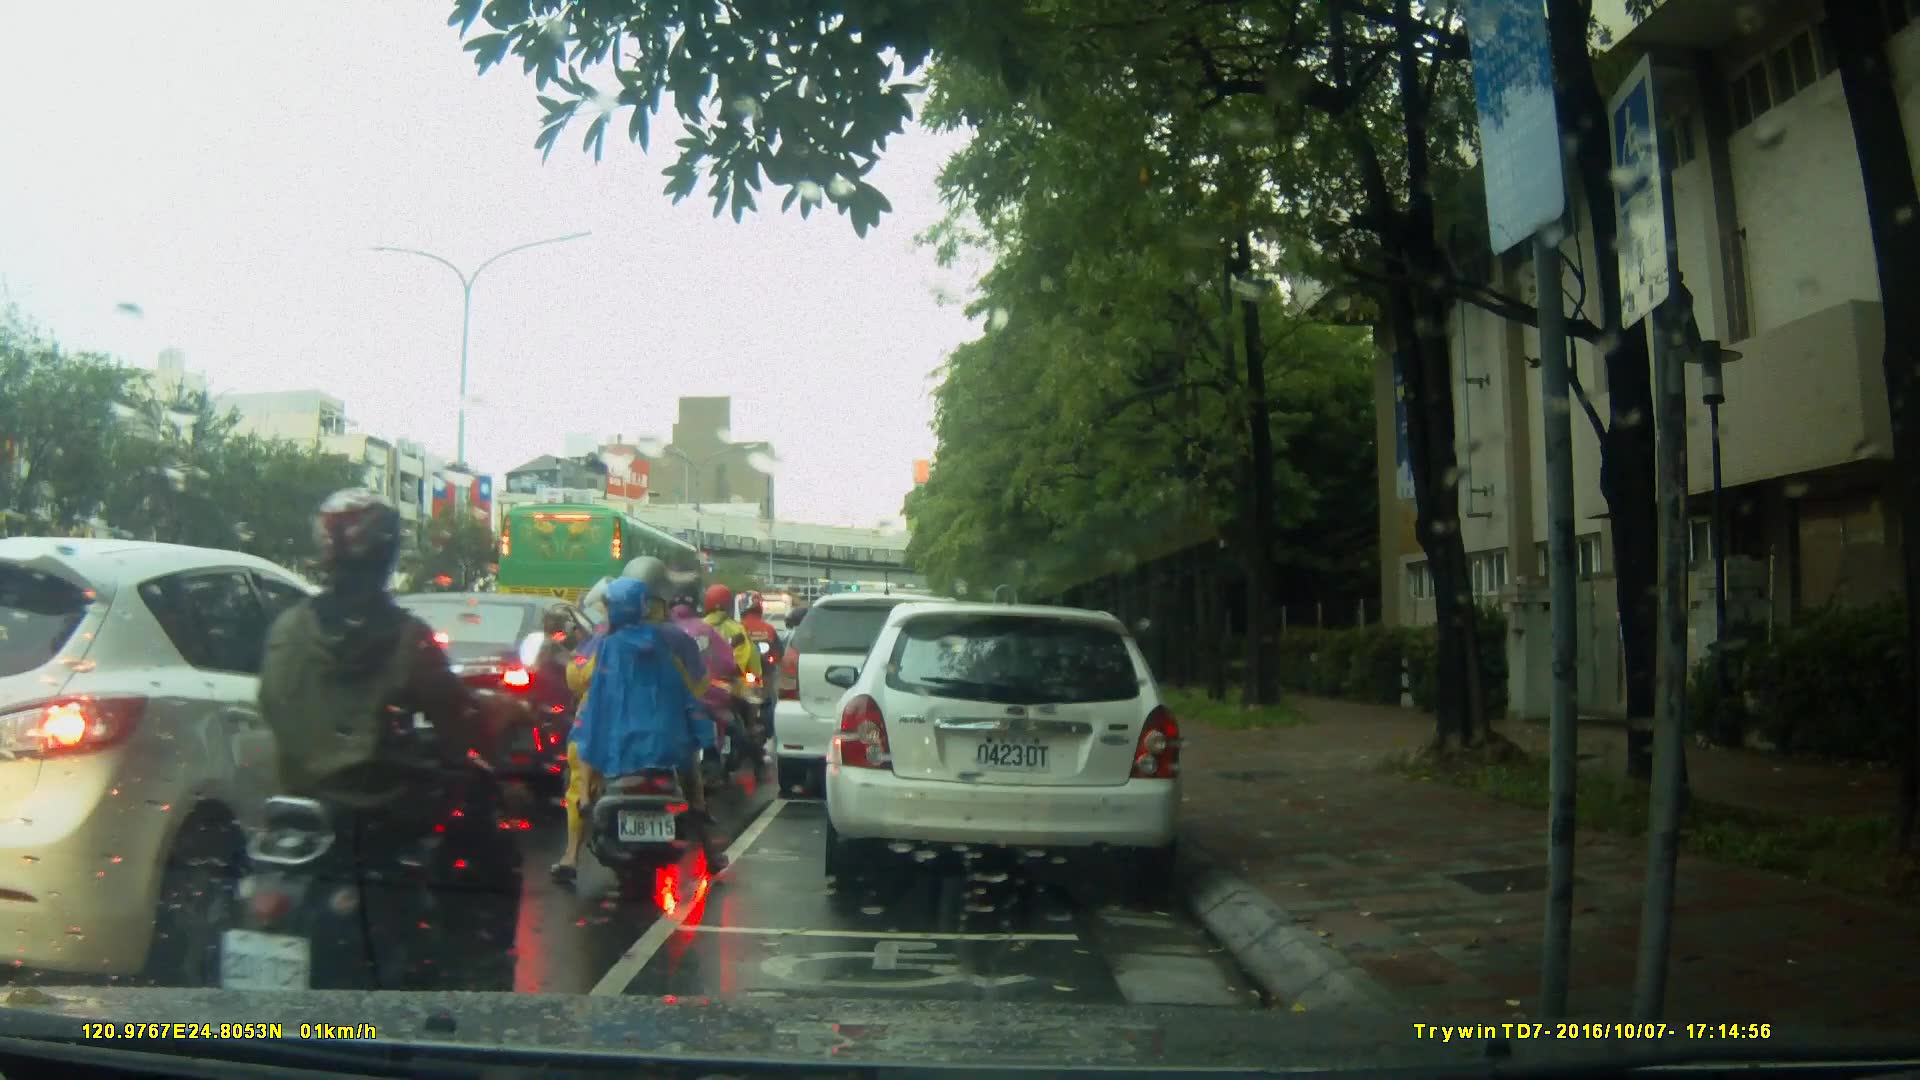rider: (223, 483, 546, 1066), (563, 553, 740, 885), (687, 581, 767, 793), (650, 580, 725, 804), (730, 592, 784, 743), (785, 598, 827, 719)
vehicle: (4, 535, 469, 988), (831, 592, 1196, 897), (313, 589, 629, 776), (770, 590, 999, 804), (500, 503, 711, 636)
